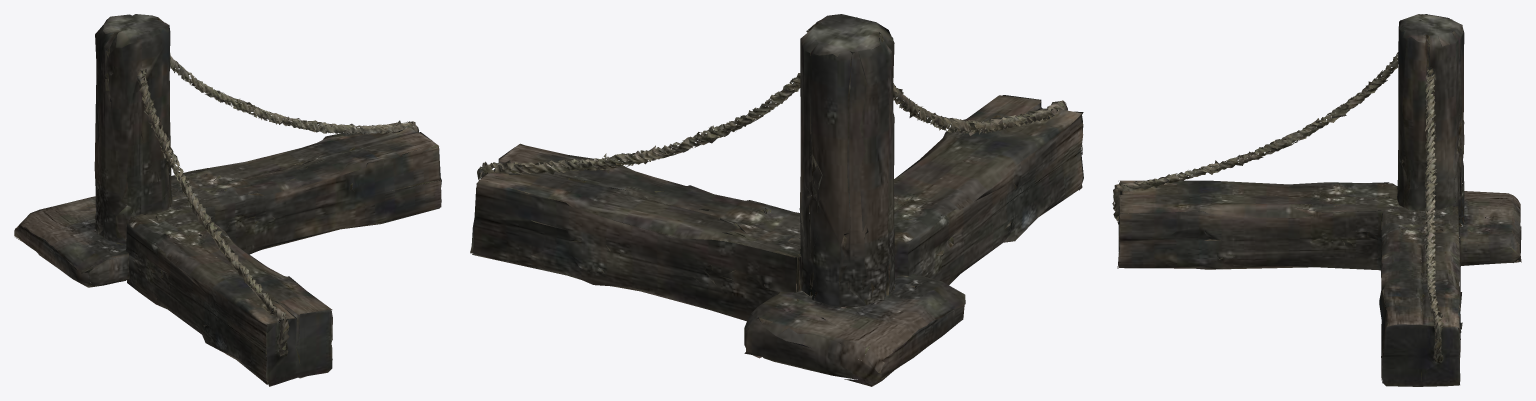
The model's file is wharf-rope-rail-corner.glb.
3 views of the same model, side by side, from view 1: azimuth 30°, elevation 25°; view 2: azimuth 150°, elevation 25°; view 3: azimuth 270°, elevation 25° (orthographic). The views are drawn at different scales.
Parts seen in each view (by area): view 1: Mesh_0; view 2: Mesh_0; view 3: Mesh_0.
Part boxes in pixels (x1,y1,x2,y2): Mesh_0: [14, 14, 441, 386]; Mesh_0: [470, 14, 1083, 386]; Mesh_0: [1112, 14, 1521, 386].
Size of the model in its own units: 1.89 by 1.18 by 1.9.
Materials: 1 (1 with a texture image).
